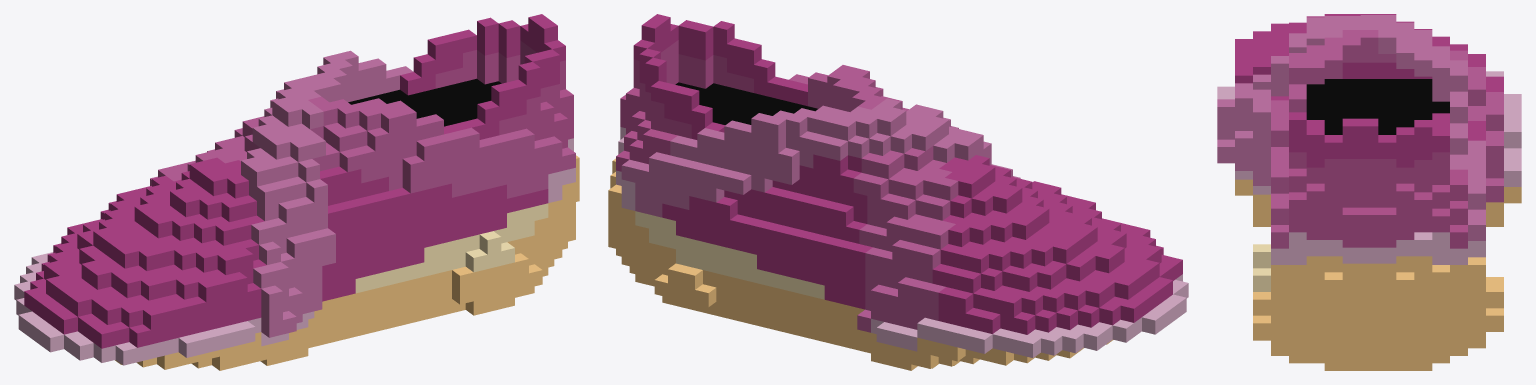
File: Ether.fbx
3 views of the same model, side by side, from view 1: azimuth 30°, elevation 25°; view 2: azimuth 150°, elevation 25°; view 3: azimuth 270°, elevation 25° (orthographic). The views are drawn at different scales.
Visible parts, largest first — view 1: Untitled; view 2: Untitled; view 3: Untitled.
Boxes of the visible parts, x1,y1,x2,y2 form: Untitled: [14, 14, 579, 370]; Untitled: [608, 14, 1188, 370]; Untitled: [1217, 14, 1521, 370].
Size of the model in its own units: 390 by 160 by 170.
